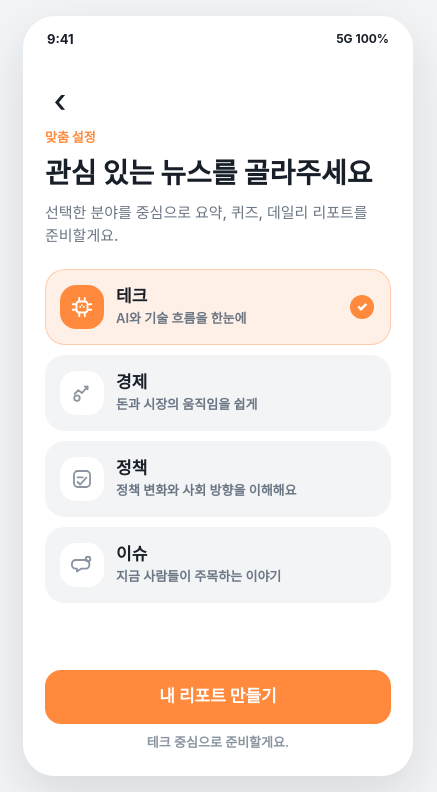
renders_and_toggles_category_cards
expect the heading "관심 있는 뉴스를 골라주세요" is shown: met, box [45,156,391,190]
expect the button "경제 돈과 시장의 움직임을 쉽게 ✓" is shown: met, box [45,355,391,431]
What coordinates should you click on to do the following:
click the button "테크 AI와 기술 흐름을 한눈에 ✓"
I would click on:
 (82, 307)
Its box is [45,269,391,345].
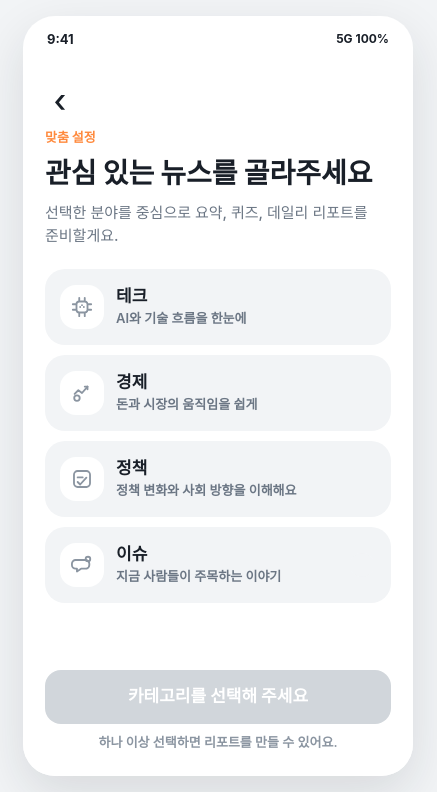
expect the button "카테고리를 선택해 주세요" is disabled: met, box [45,670,391,724]
expect the text "하나 이상 선택하면 리포트를 만들 수 있어요." is shown: met, box [98,734,338,750]
